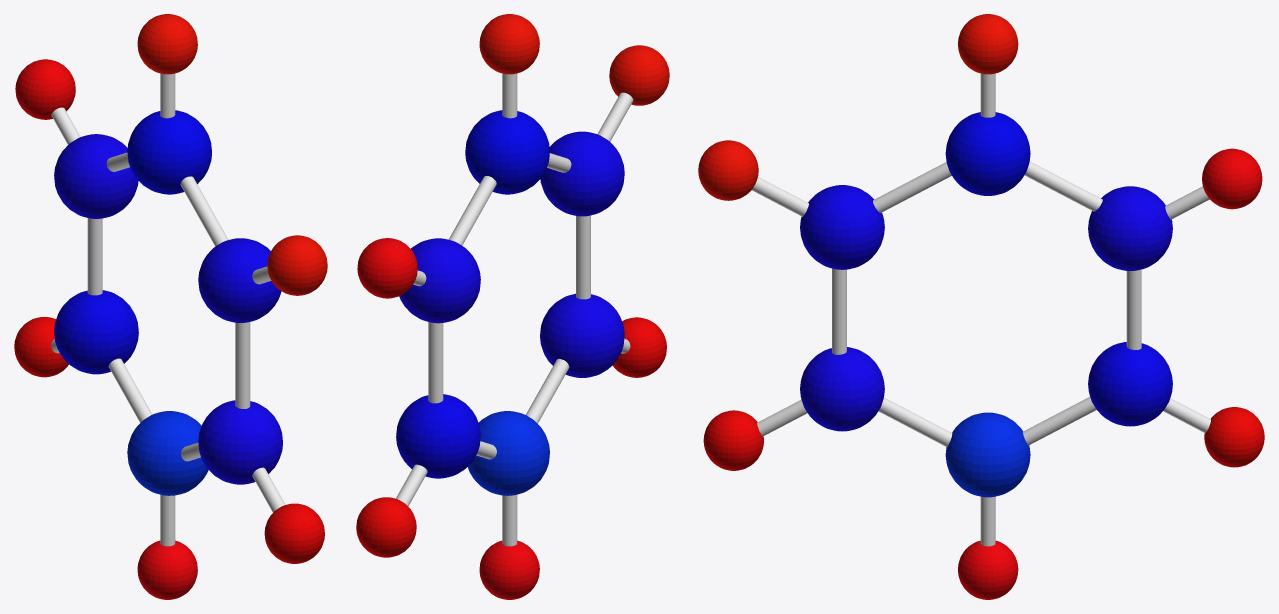
The model's file is Benzen.gltf.
The picture shows the model from 3 angles, left to right: view 1: azimuth 30°, elevation 25°; view 2: azimuth 150°, elevation 25°; view 3: azimuth 270°, elevation 25°; orthographic projection.
Visible parts, largest first — view 1: Sphere.003, Sphere.005, Sphere.002, Cylinder.002, Sphere, Sphere.001, Sphere.004, Sphere.008, Sphere.010, Sphere.011, Sphere.012, Sphere.007 (+5 smaller); view 2: Sphere.003, Sphere.005, Sphere.002, Cylinder.002, Sphere.001, Sphere.004, Sphere, Sphere.007, Sphere.009, Sphere.008, Sphere.012, Sphere.010 (+5 smaller); view 3: Cylinder.002, Sphere.004, Sphere.001, Sphere.002, Sphere, Sphere.003, Sphere.005, Sphere.010, Sphere.008, Sphere.007, Sphere.011, Sphere.009 (+5 smaller).
Boxes of the visible parts, x1,y1,x2,y2 form: Sphere.003: (54,290,138,374); Sphere.005: (198,400,282,484); Sphere.002: (127,110,211,194); Cylinder.002: (87,152,250,461); Sphere: (54,134,138,218); Sphere.001: (198,238,281,322); Sphere.004: (127,411,208,495); Sphere.008: (137,14,197,74); Sphere.010: (267,235,327,295); Sphere.011: (264,503,324,563); Sphere.012: (137,540,197,599); Sphere.007: (15,59,75,119); Sphere.003: (396,394,480,478); Sphere.005: (540,293,624,377); Sphere.002: (465,110,549,194); Cylinder.002: (428,153,590,459); Sphere.001: (540,131,624,216); Sphere.004: (468,411,549,495); Sphere: (399,238,480,323); Sphere.007: (357,238,417,298); Sphere.009: (356,497,416,557); Sphere.008: (479,14,539,74); Sphere.012: (479,540,539,599); Sphere.010: (609,45,669,105); Cylinder.002: (832,161,1141,446); Sphere.004: (945,412,1030,497); Sphere.001: (800,185,884,269); Sphere.002: (945,112,1030,195); Sphere: (1088,186,1172,270); Sphere.003: (1088,342,1172,426); Sphere.005: (800,347,884,431); Sphere.010: (698,140,758,200); Sphere.008: (958,14,1018,74); Sphere.007: (1202,148,1262,209); Sphere.011: (703,410,763,470); Sphere.009: (1204,407,1264,467).
Bounding box in the file's own units: 3.6 × 26.38 × 23.34.
